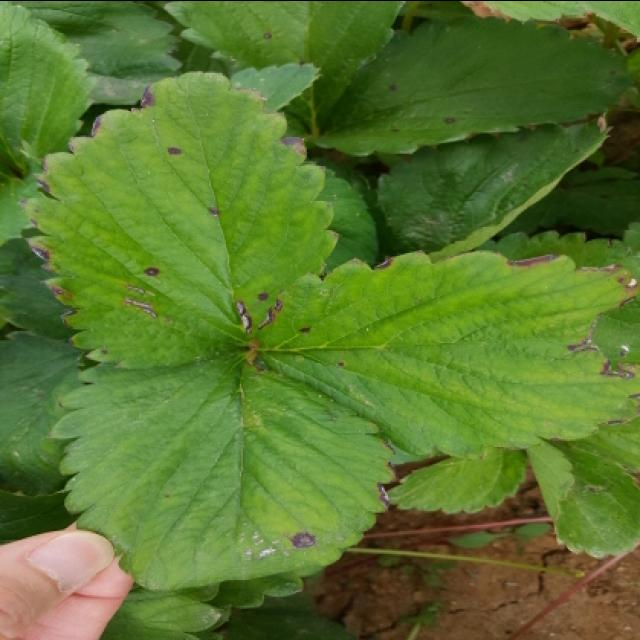Leaf Spot: (17, 69, 340, 370), (47, 346, 398, 590), (249, 247, 638, 461), (313, 13, 630, 158), (159, 2, 406, 135)
